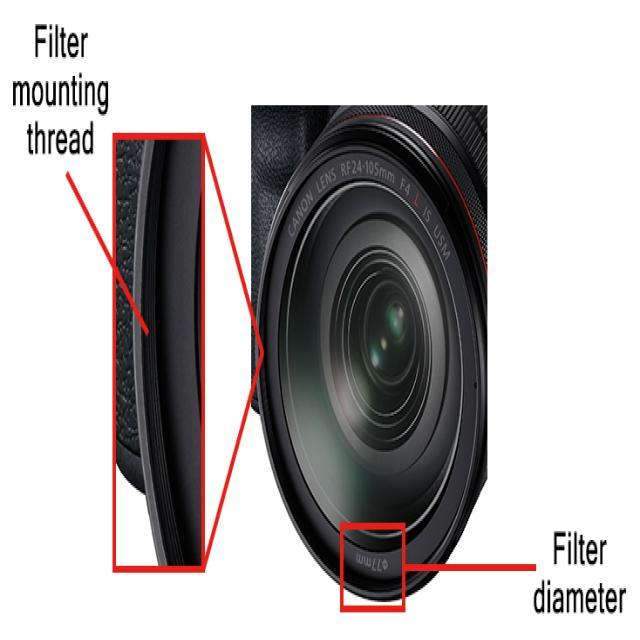hidden camera: (304, 214, 469, 512)
